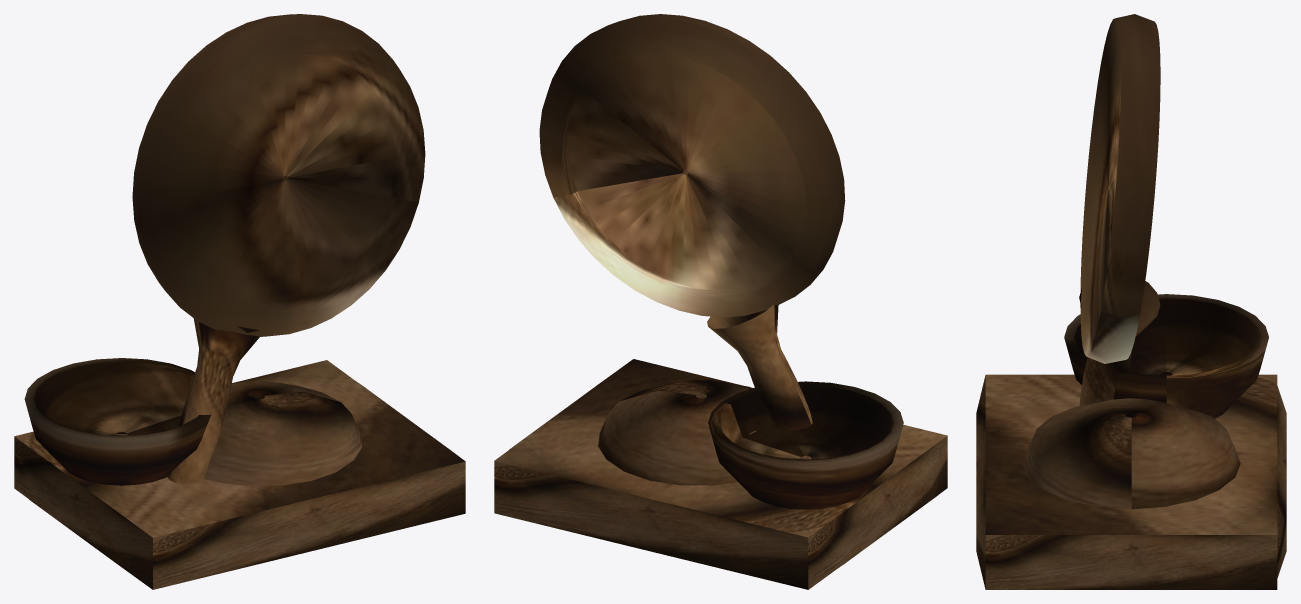
The model's file is bronze-mirror.glb.
The picture shows the model from 3 angles, left to right: view 1: azimuth 30°, elevation 25°; view 2: azimuth 150°, elevation 25°; view 3: azimuth 270°, elevation 25°; orthographic projection. The views are drawn at different scales.
Parts seen in each view (by area): view 1: HeroRelicMonument; view 2: HeroRelicMonument; view 3: HeroRelicMonument.
Part boxes in pixels (x1,y1,x2,y2): HeroRelicMonument: [14, 14, 465, 589]; HeroRelicMonument: [494, 14, 947, 589]; HeroRelicMonument: [976, 14, 1286, 589].
Size of the model in its own units: 1.51 by 1.87 by 1.06.
1 material, 1 textured.
